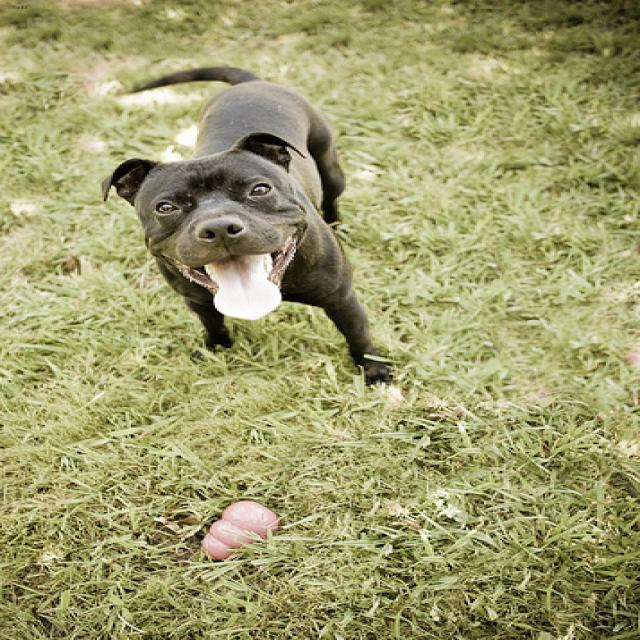dog-staffordshire_bull_terrier: (91, 63, 409, 392)
